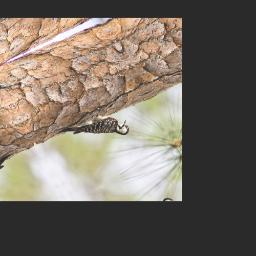Woodpecker: (52, 99, 133, 160)
